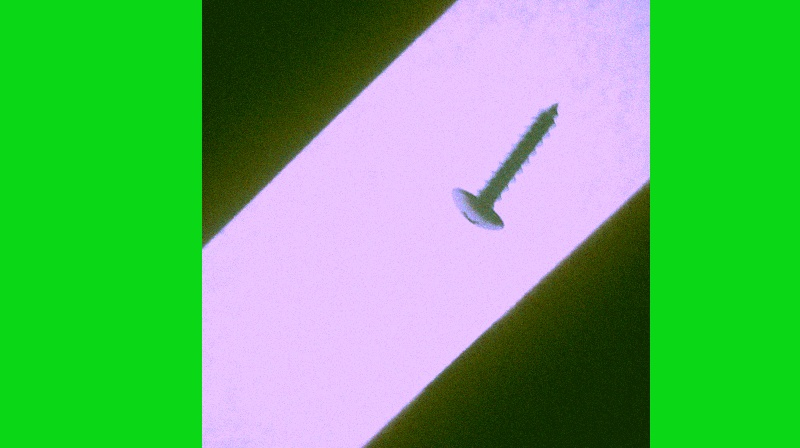S003: (447, 96, 560, 234)
